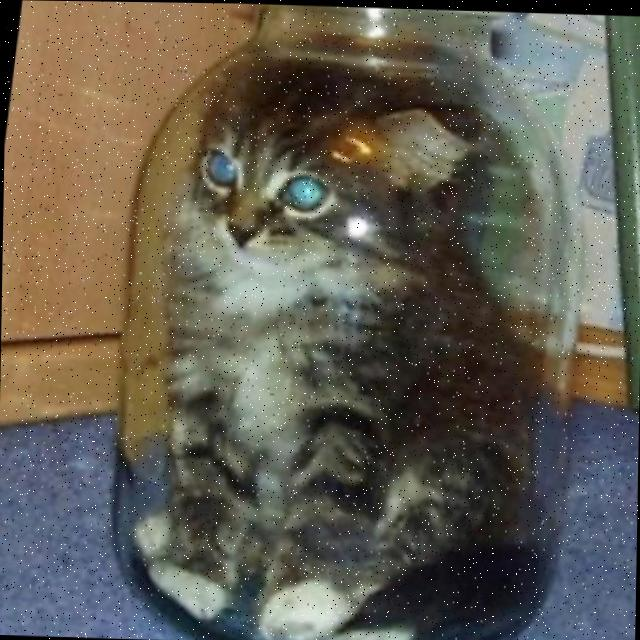Cats: (117, 31, 586, 640)
